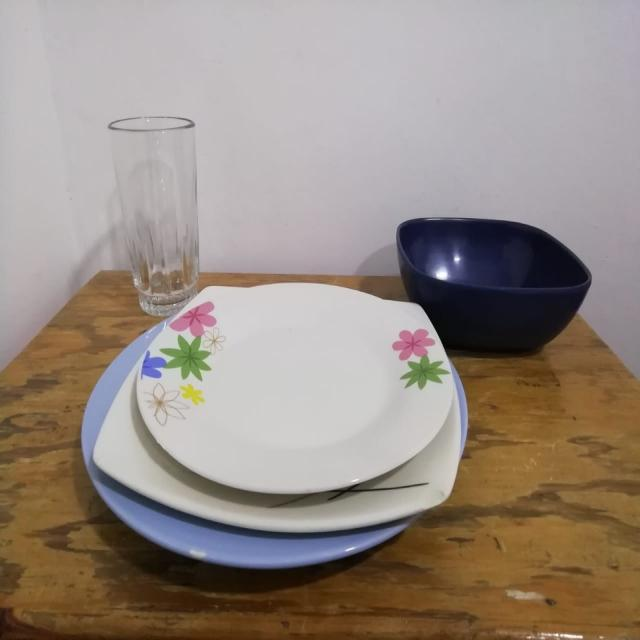non-organic waste: (70, 272, 492, 585), (91, 316, 474, 544), (153, 302, 483, 505)
